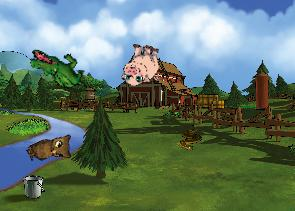crocodile: (27, 48, 90, 90)
owl: (24, 129, 78, 173)
pig: (119, 41, 163, 88)
